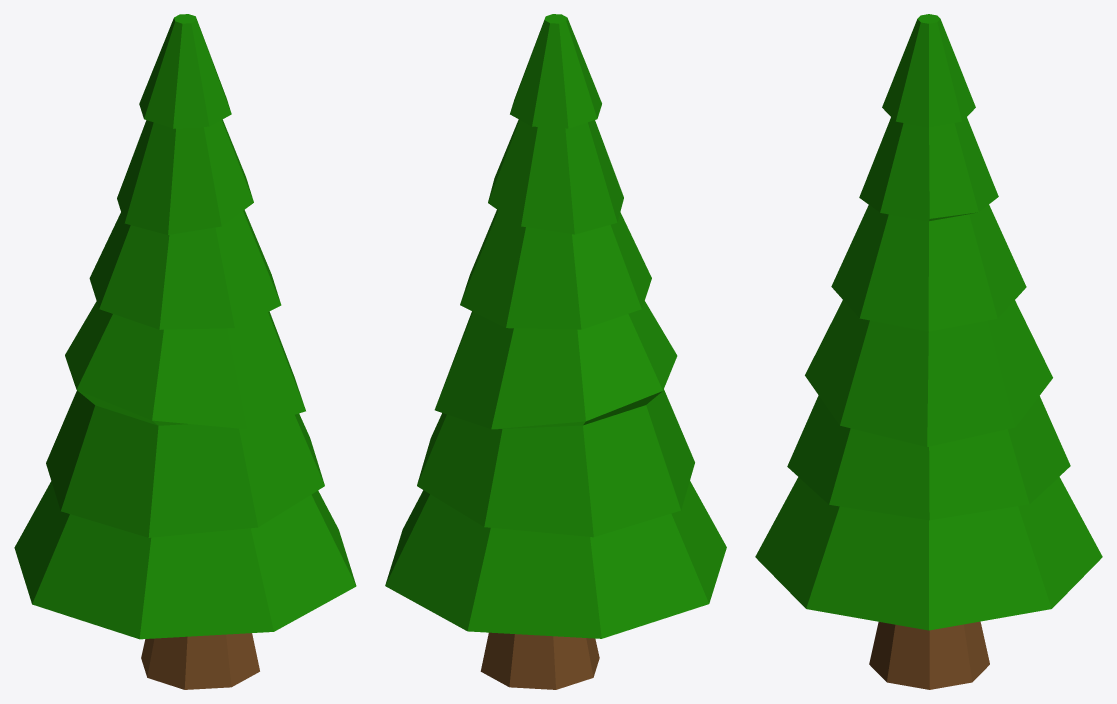
File: Pine.fbx
The picture shows the model from 3 angles, left to right: view 1: azimuth 30°, elevation 25°; view 2: azimuth 150°, elevation 25°; view 3: azimuth 270°, elevation 25°; orthographic projection.
Parts seen in each view (by area): view 1: Cylinder, Cylinder.001; view 2: Cylinder, Cylinder.001; view 3: Cylinder, Cylinder.001.
Boxes of the visible parts, x1=… form: Cylinder: x1=14, y1=14, x2=356, y2=639; Cylinder.001: x1=141, y1=633, x2=259, y2=689; Cylinder: x1=385, y1=14, x2=726, y2=638; Cylinder.001: x1=480, y1=632, x2=599, y2=689; Cylinder: x1=755, y1=14, x2=1102, y2=630; Cylinder.001: x1=869, y1=621, x2=989, y2=689.
Size of the model in its own units: 235 by 476 by 235.
